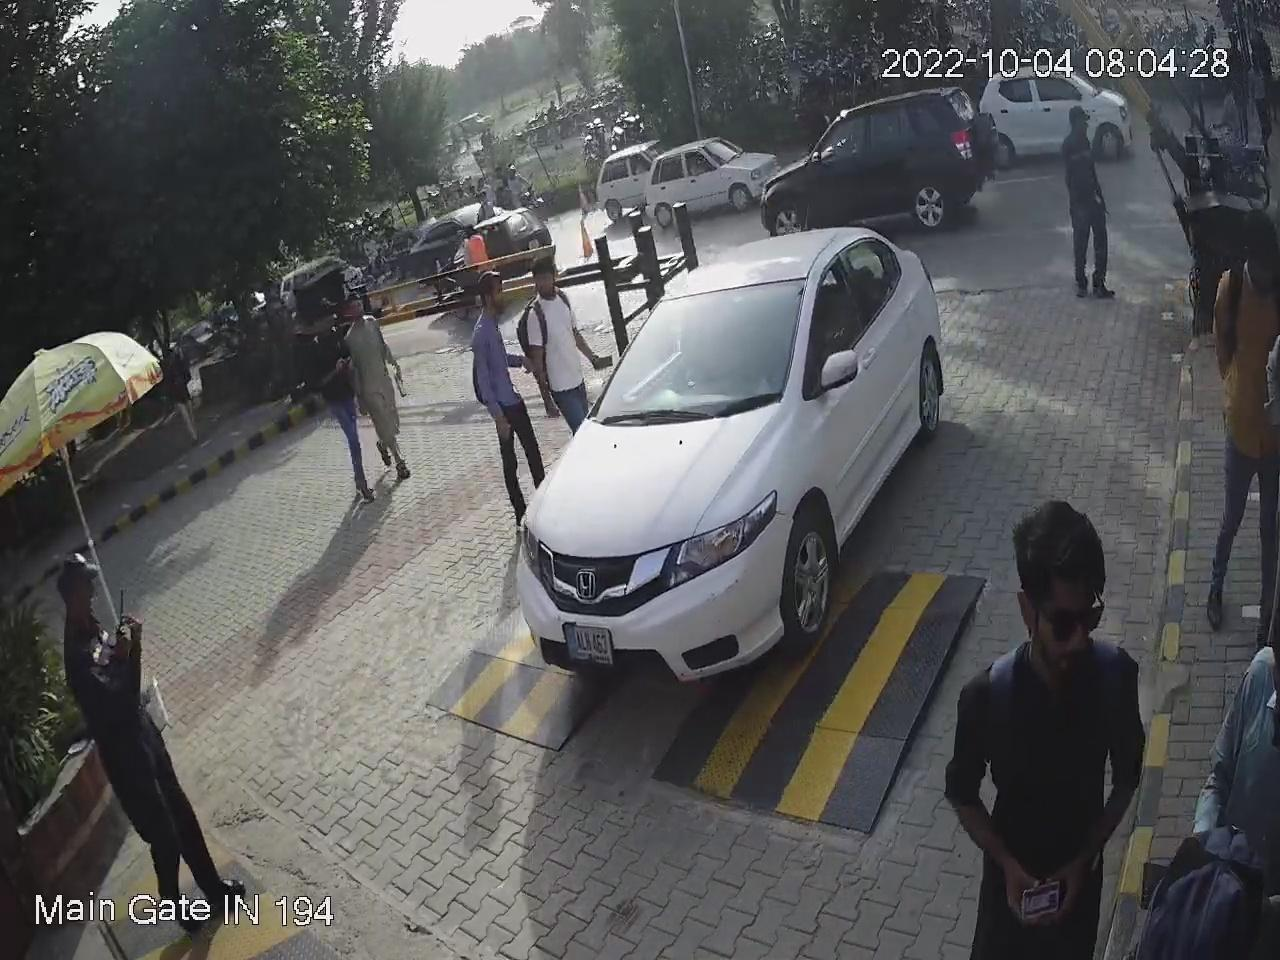windshield: (588, 272, 810, 428)
